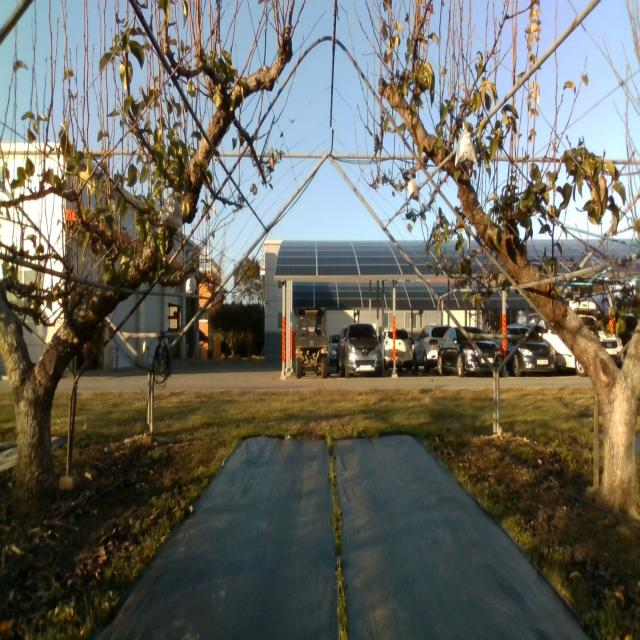pearbags: (455, 121, 478, 167), (160, 191, 182, 231), (408, 178, 420, 200)
